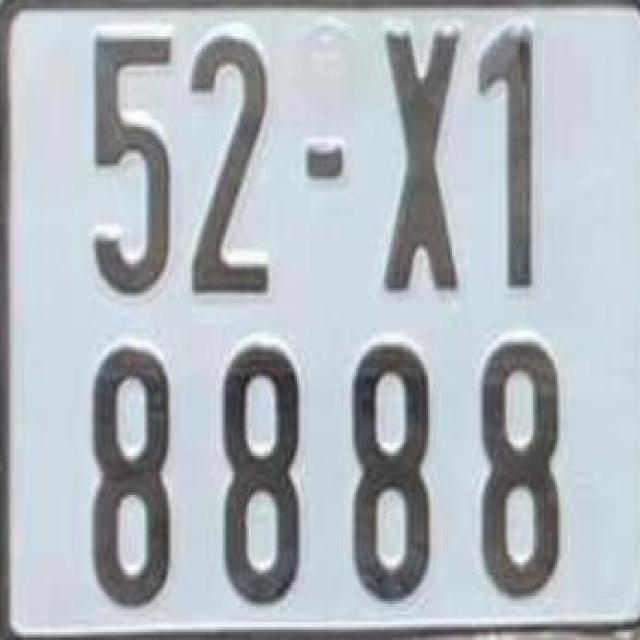1: (473, 18, 549, 290)
2: (185, 26, 276, 300)
5: (83, 25, 177, 296)
8: (474, 327, 568, 601), (346, 330, 438, 605), (86, 336, 178, 610), (217, 333, 307, 608)
X: (378, 22, 463, 294)
